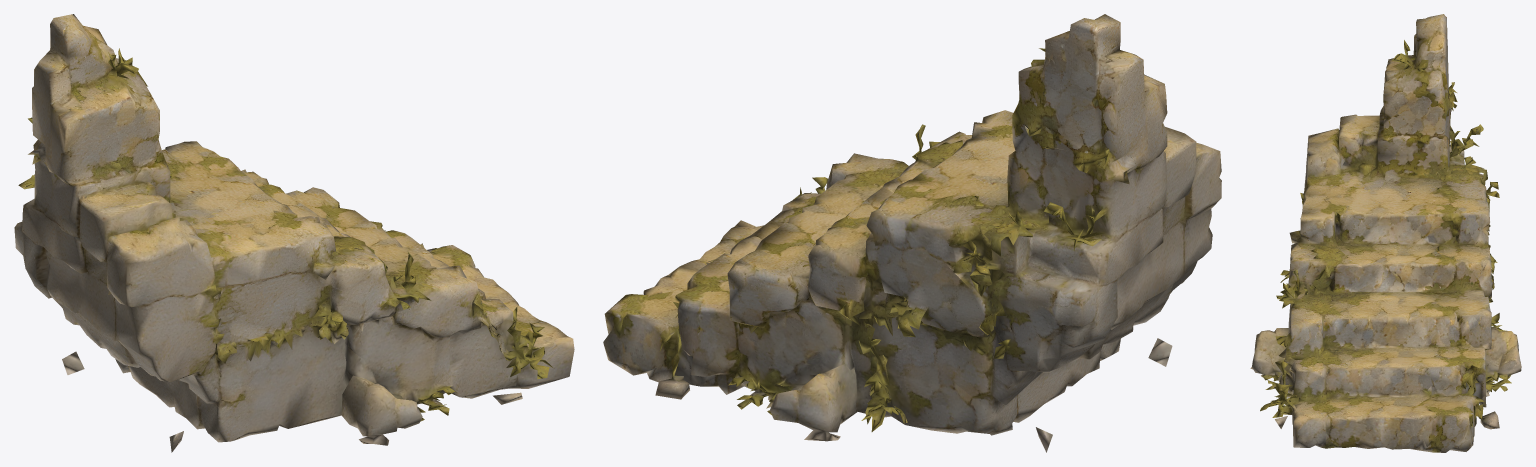
The model's file is raw.glb.
3 views of the same model, side by side, from view 1: azimuth 30°, elevation 25°; view 2: azimuth 150°, elevation 25°; view 3: azimuth 270°, elevation 25° (orthographic). The views are drawn at different scales.
Visible parts, largest first — view 1: tripo_node_83c11590-5036-4284-8a99-c6804dc54a60; view 2: tripo_node_83c11590-5036-4284-8a99-c6804dc54a60; view 3: tripo_node_83c11590-5036-4284-8a99-c6804dc54a60.
Part boxes in pixels (<box>): tripo_node_83c11590-5036-4284-8a99-c6804dc54a60: <box>14,14,574,452</box>; tripo_node_83c11590-5036-4284-8a99-c6804dc54a60: <box>603,14,1221,452</box>; tripo_node_83c11590-5036-4284-8a99-c6804dc54a60: <box>1250,14,1521,452</box>.
Bounding box in the file's own units: 1 × 0.8417 × 0.7081.
Materials: 1 (1 with a texture image).
